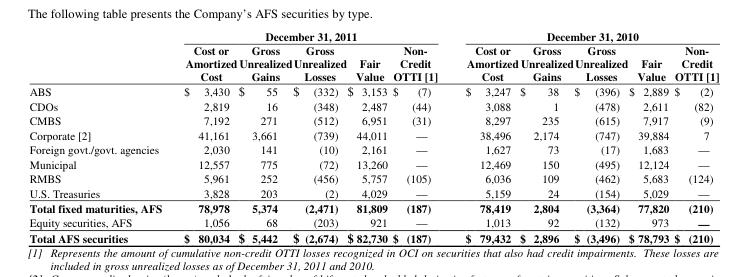table: (28, 28, 718, 246)
table column: (28, 28, 172, 246), (450, 28, 518, 246), (172, 28, 237, 246), (389, 28, 450, 246), (291, 28, 346, 246), (518, 28, 573, 246), (237, 28, 291, 246), (573, 28, 627, 246), (671, 28, 718, 246), (627, 28, 671, 246), (346, 28, 389, 246)
table column header: (28, 28, 718, 82)
table row: (28, 43, 718, 82), (28, 229, 718, 246), (28, 28, 718, 43), (28, 82, 718, 97), (28, 97, 718, 112), (28, 112, 718, 127), (28, 141, 718, 156), (28, 170, 718, 185), (28, 185, 718, 200), (28, 200, 718, 215), (28, 127, 718, 141), (28, 156, 718, 170), (28, 215, 718, 229)
table spanning cell: (172, 28, 450, 43), (450, 28, 718, 43)
